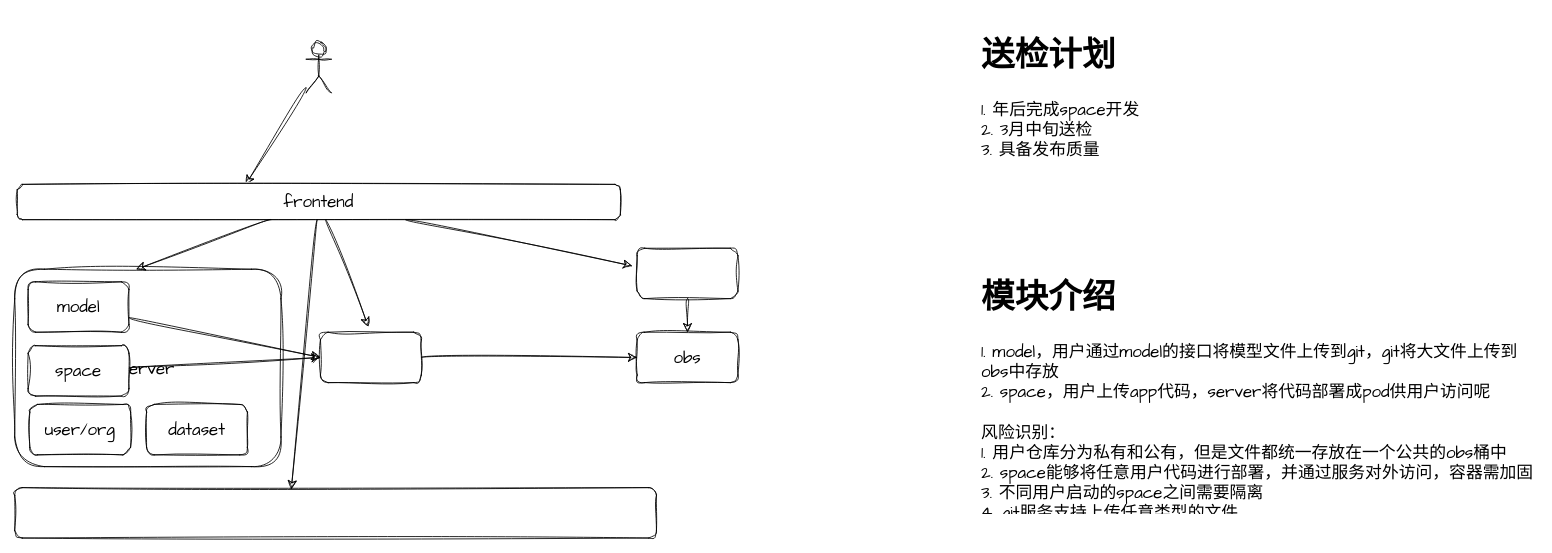
This 1552x553 diagram has some shape labels left out. Each missing label, with the centre of its shape:
"Actor" goes at (318,67).
"CDN" goes at (687,273).
"git" goes at (370,357).
"k8s" goes at (335,512).
